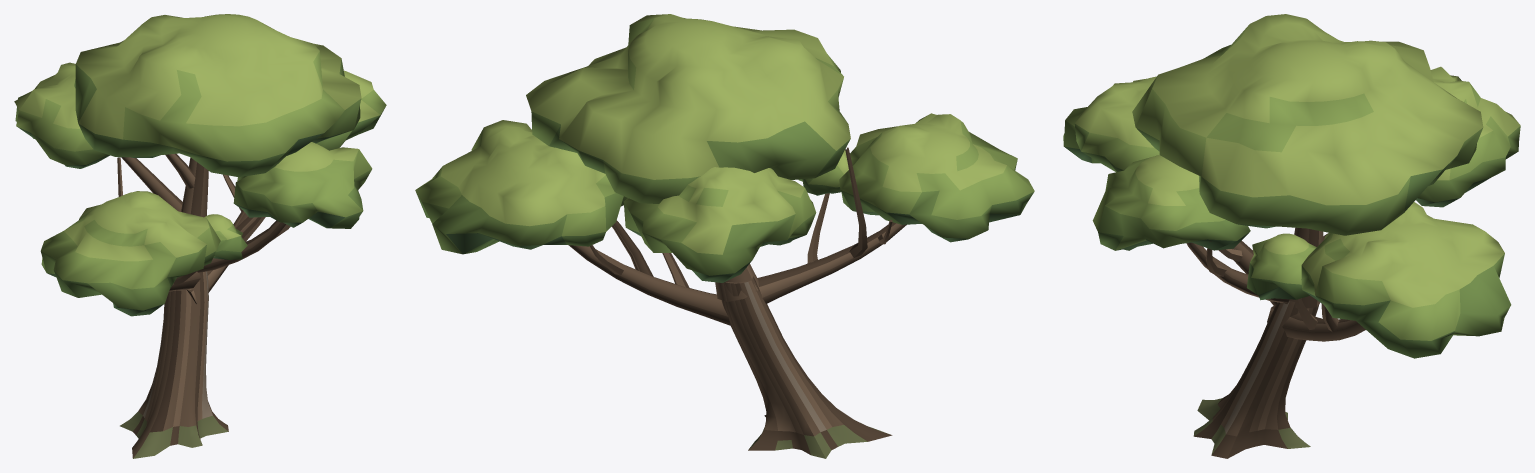
File: hero-tree-b.glb
The picture shows the model from 3 angles, left to right: view 1: azimuth 30°, elevation 25°; view 2: azimuth 150°, elevation 25°; view 3: azimuth 270°, elevation 25°; orthographic projection. The views are drawn at different scales.
Visible parts, largest first — view 1: HeroTreeB_Canopy_01_crown, HeroTreeB_Canopy_03_counter, HeroTreeB_Trunk, HeroTreeB_Canopy_05_side_low, HeroTreeB_Canopy_04_side, HeroTreeB_Canopy_02_lean, HeroTreeB_Canopy_07_counter_twig, HeroTreeB_Branch_01, HeroTreeB_Branch_04, HeroTreeB_Branch_05, HeroTreeB_Branch_07, HeroTreeB_Branch_02; view 2: HeroTreeB_Canopy_01_crown, HeroTreeB_Canopy_02_lean, HeroTreeB_Canopy_03_counter, HeroTreeB_Canopy_04_side, HeroTreeB_Trunk, HeroTreeB_Branch_02, HeroTreeB_Branch_03, HeroTreeB_Canopy_07_counter_twig, HeroTreeB_Branch_11, HeroTreeB_Branch_06, HeroTreeB_Branch_01; view 3: HeroTreeB_Canopy_01_crown, HeroTreeB_Canopy_02_lean, HeroTreeB_Canopy_05_side_low, HeroTreeB_Trunk, HeroTreeB_Canopy_03_counter, HeroTreeB_Canopy_04_side, HeroTreeB_Canopy_06_lean_twig, HeroTreeB_Branch_02, HeroTreeB_Branch_04, HeroTreeB_Branch_01.
Boxes of the visible parts, x1,y1,x2,y2 form: HeroTreeB_Canopy_01_crown: [74, 14, 361, 177]; HeroTreeB_Canopy_03_counter: [40, 191, 220, 316]; HeroTreeB_Trunk: [120, 271, 228, 458]; HeroTreeB_Canopy_05_side_low: [233, 142, 372, 228]; HeroTreeB_Canopy_04_side: [14, 62, 109, 168]; HeroTreeB_Canopy_02_lean: [316, 70, 386, 150]; HeroTreeB_Canopy_07_counter_twig: [204, 214, 247, 259]; HeroTreeB_Branch_01: [181, 157, 208, 217]; HeroTreeB_Branch_04: [197, 220, 285, 272]; HeroTreeB_Branch_05: [121, 157, 182, 211]; HeroTreeB_Branch_07: [165, 153, 195, 188]; HeroTreeB_Branch_02: [186, 210, 247, 303]; HeroTreeB_Canopy_01_crown: [526, 14, 850, 203]; HeroTreeB_Canopy_02_lean: [415, 120, 627, 254]; HeroTreeB_Canopy_03_counter: [839, 113, 1034, 242]; HeroTreeB_Canopy_04_side: [623, 167, 816, 282]; HeroTreeB_Trunk: [721, 276, 892, 458]; HeroTreeB_Branch_02: [568, 245, 730, 325]; HeroTreeB_Branch_03: [757, 222, 906, 303]; HeroTreeB_Canopy_07_counter_twig: [799, 150, 848, 195]; HeroTreeB_Branch_11: [845, 147, 867, 257]; HeroTreeB_Branch_06: [611, 220, 653, 276]; HeroTreeB_Branch_01: [715, 264, 758, 301]; HeroTreeB_Canopy_01_crown: [1132, 14, 1483, 235]; HeroTreeB_Canopy_02_lean: [1301, 202, 1511, 358]; HeroTreeB_Canopy_05_side_low: [1092, 155, 1250, 250]; HeroTreeB_Trunk: [1193, 300, 1319, 458]; HeroTreeB_Canopy_03_counter: [1063, 76, 1159, 172]; HeroTreeB_Canopy_04_side: [1416, 66, 1520, 207]; HeroTreeB_Canopy_06_lean_twig: [1247, 233, 1316, 300]; HeroTreeB_Branch_02: [1267, 306, 1365, 341]; HeroTreeB_Branch_04: [1186, 242, 1289, 302]; HeroTreeB_Branch_01: [1283, 227, 1323, 308].
Size of the model in its own units: 13.75 by 11.16 by 10.93.
Materials: 1 (1 with a texture image).
